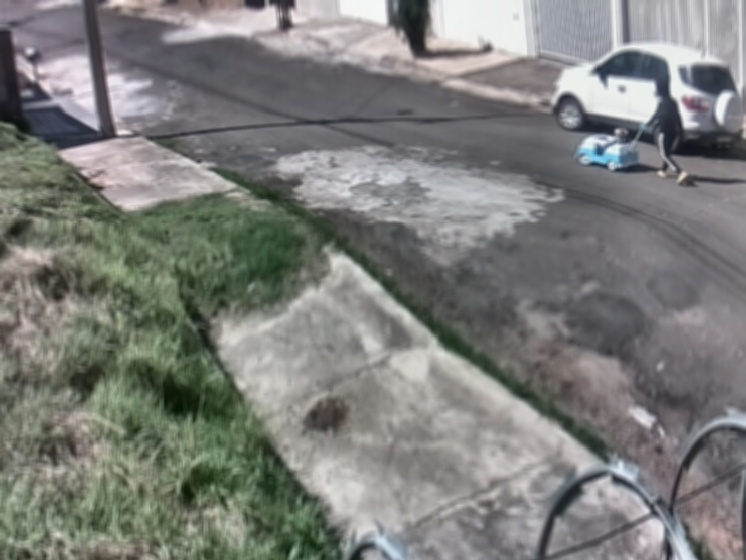person: (644, 76, 690, 186)
